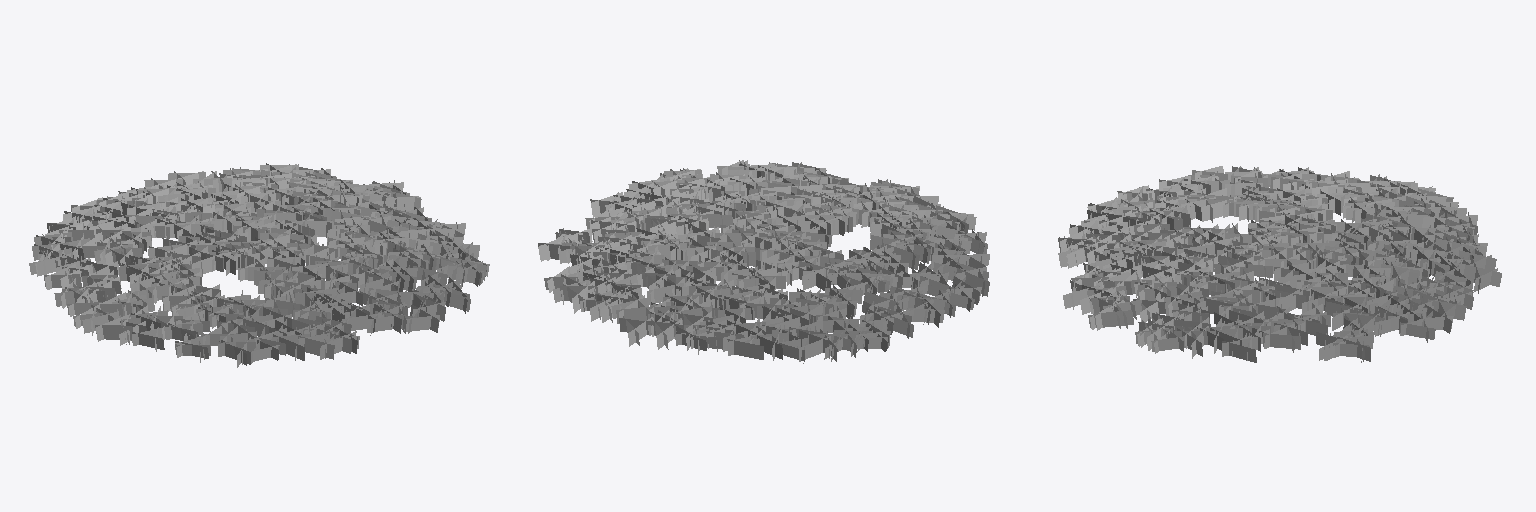
File: sm_grass_terrace2x2.OBJ
3 views of the same model, side by side, from view 1: azimuth 30°, elevation 25°; view 2: azimuth 150°, elevation 25°; view 3: azimuth 270°, elevation 25° (orthographic).
Parts seen in each view (by area): view 1: ZBrushPolyMesh3D; view 2: ZBrushPolyMesh3D; view 3: ZBrushPolyMesh3D.
Part boxes in pixels (x1,y1,x2,y2): ZBrushPolyMesh3D: (29, 163, 489, 367); ZBrushPolyMesh3D: (538, 160, 989, 363); ZBrushPolyMesh3D: (1058, 166, 1501, 362).
Size of the model in its own units: 5.7 by 0.4913 by 5.65.